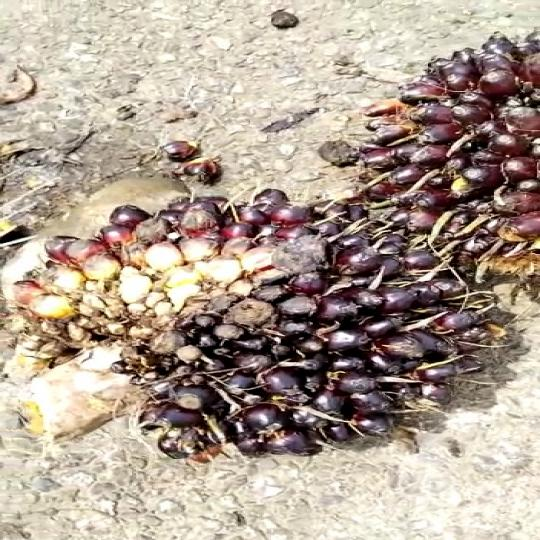mentah: (19, 169, 510, 453)
